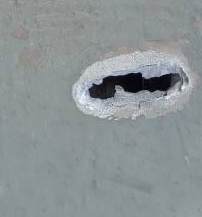Spalling: (71, 50, 195, 121)
